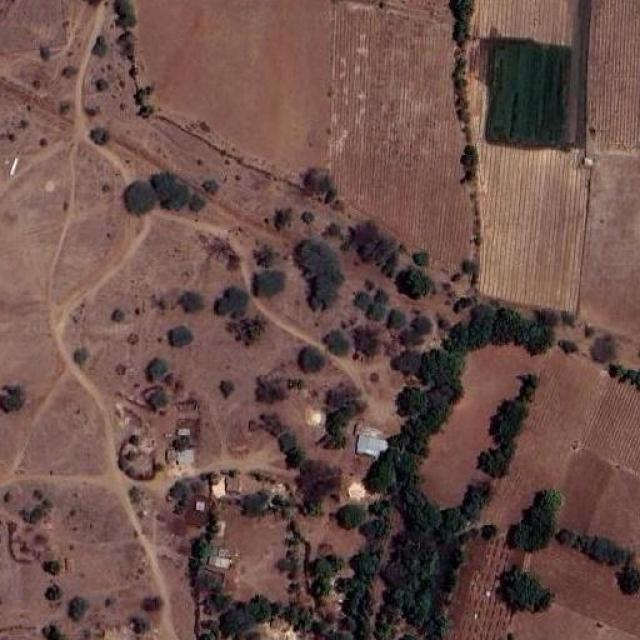land-Sx1C: (330, 0, 471, 266), (137, 0, 331, 171), (484, 350, 599, 528), (421, 345, 541, 507), (479, 139, 589, 311), (579, 152, 640, 338), (531, 542, 640, 632), (486, 40, 571, 148), (445, 534, 524, 639), (588, 0, 640, 152), (584, 376, 640, 476), (590, 469, 640, 562), (512, 604, 640, 640), (560, 450, 614, 532), (615, 614, 640, 632)
